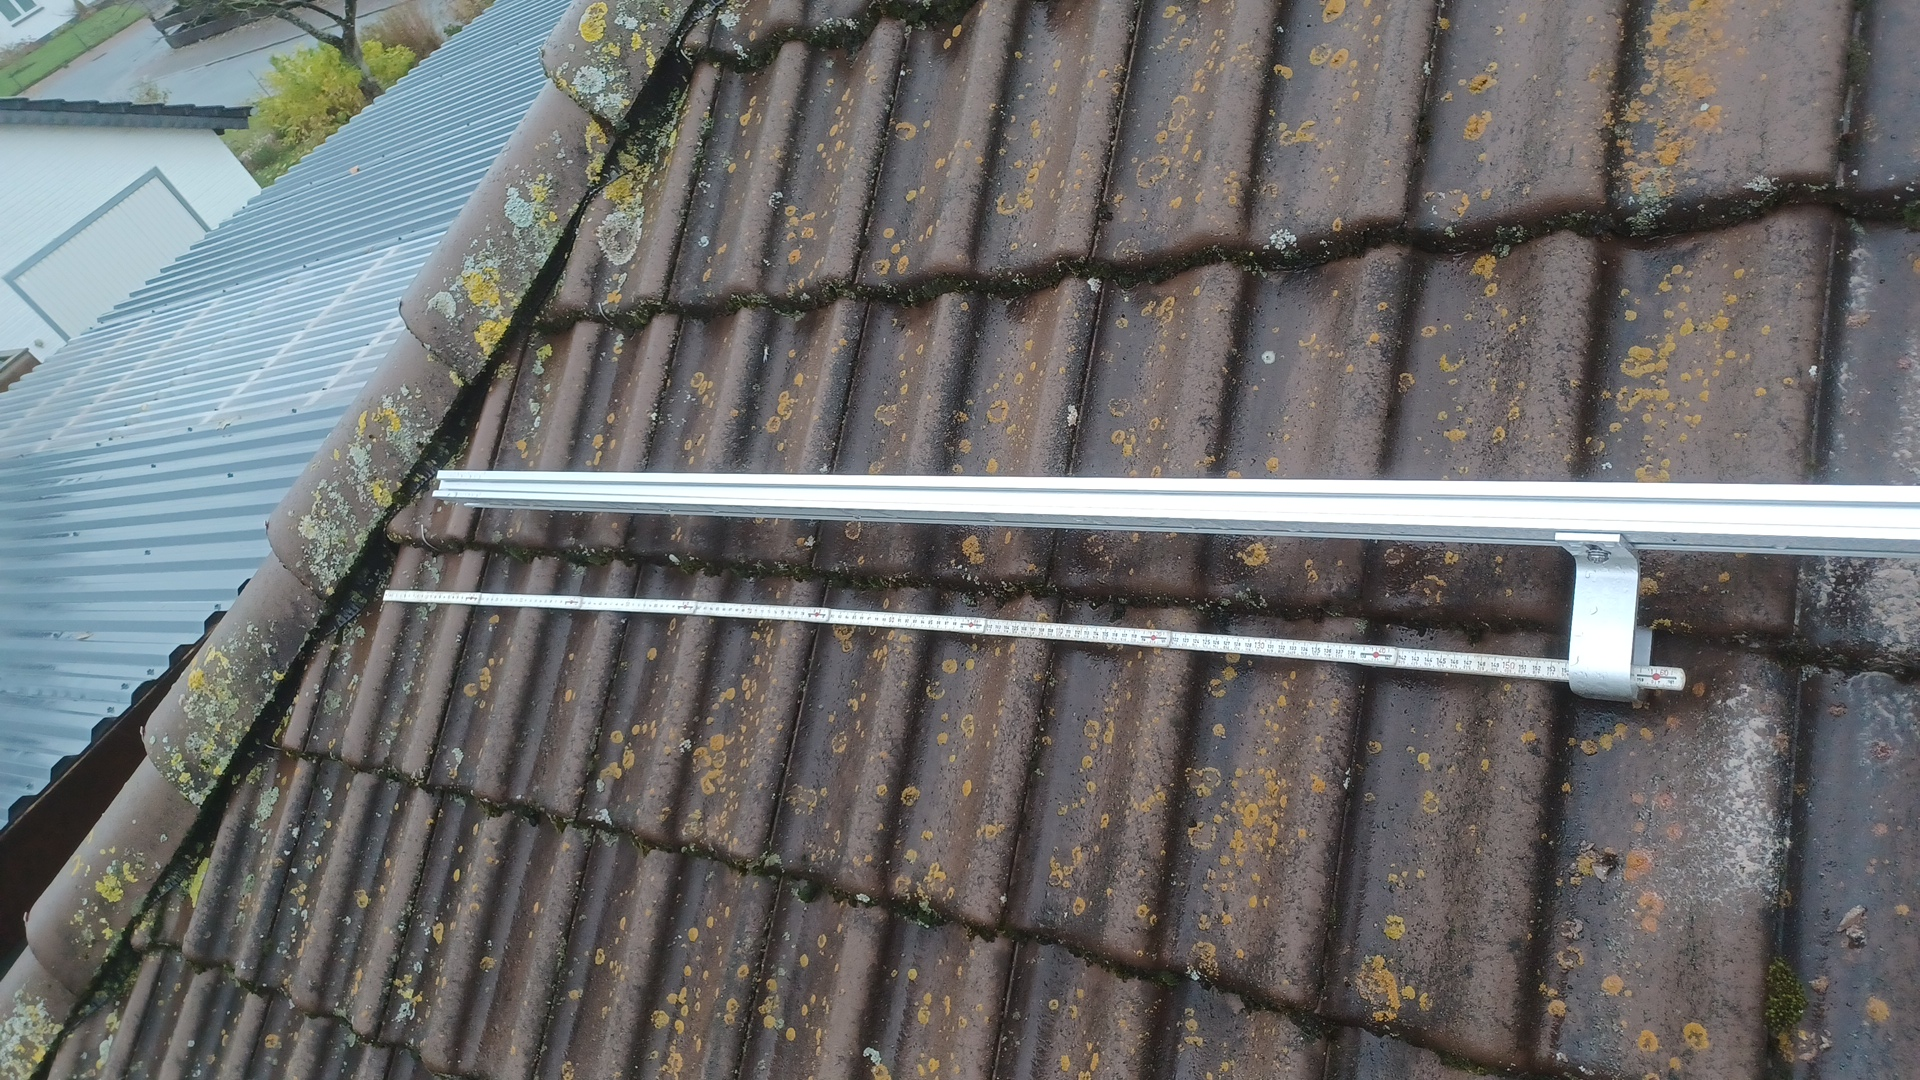hook: (1553, 531, 1652, 700)
